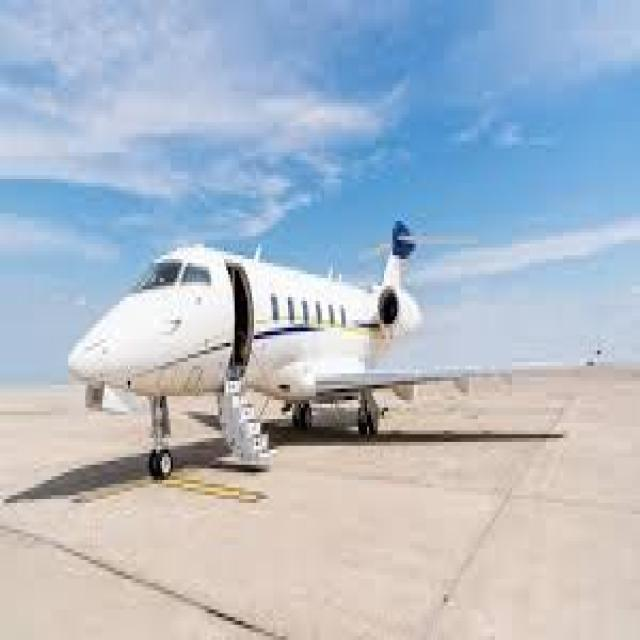jet: (40, 150, 489, 520)
